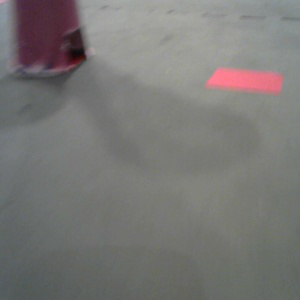middle: (10, 1, 94, 76)
